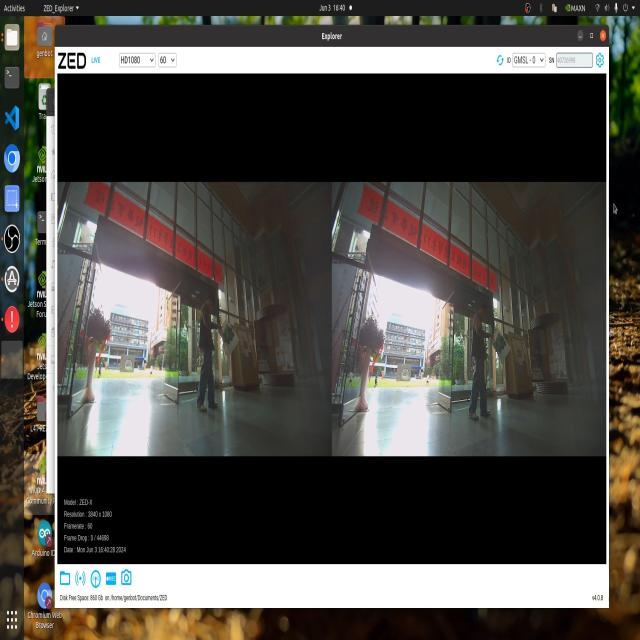green: (216, 318, 238, 347), (492, 324, 508, 356)
